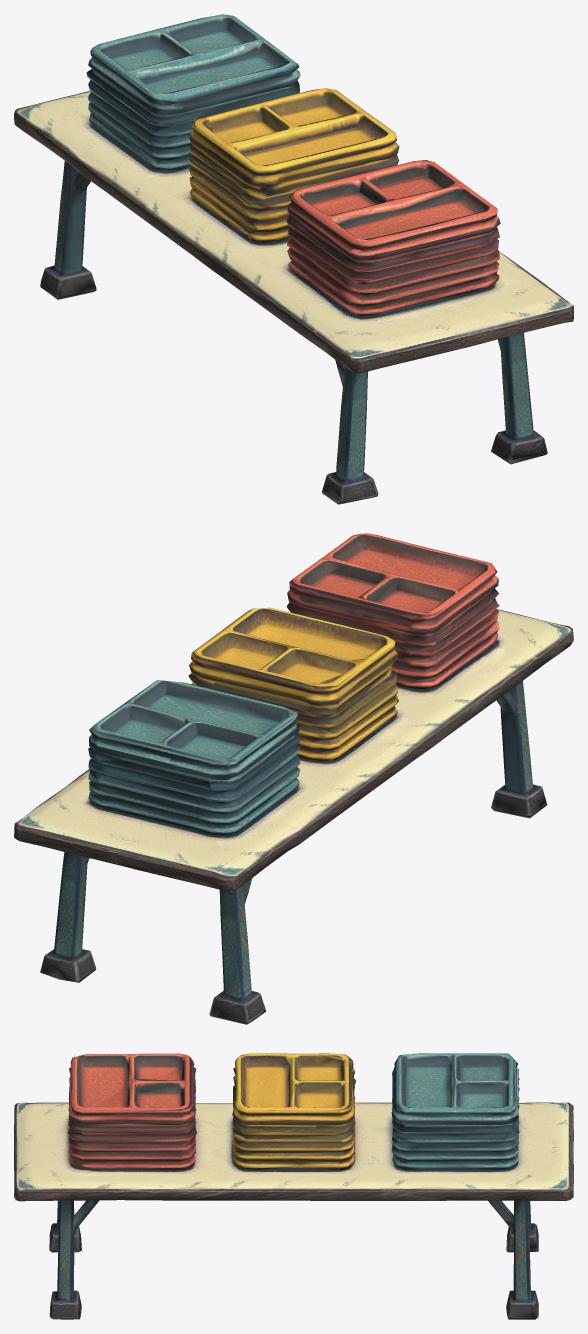
Rendered from DinnerTray.fbx.
The picture shows the model from 3 angles, top to bottom: view 1: azimuth 30°, elevation 25°; view 2: azimuth 150°, elevation 25°; view 3: azimuth 270°, elevation 25°; orthographic projection. The views are drawn at different scales.
Visible parts, largest first — view 1: tripo_node_df27abad-06fb-4e31-80b9-1f39fd351c01; view 2: tripo_node_df27abad-06fb-4e31-80b9-1f39fd351c01; view 3: tripo_node_df27abad-06fb-4e31-80b9-1f39fd351c01.
Boxes of the visible parts, x1,y1,x2,y2 form: tripo_node_df27abad-06fb-4e31-80b9-1f39fd351c01: (14,14,573,504); tripo_node_df27abad-06fb-4e31-80b9-1f39fd351c01: (14,533,573,1024); tripo_node_df27abad-06fb-4e31-80b9-1f39fd351c01: (14,1053,573,1319).
Bounding box in the file's own units: 37.45 × 38.98 × 100.
1 material, 1 textured.
